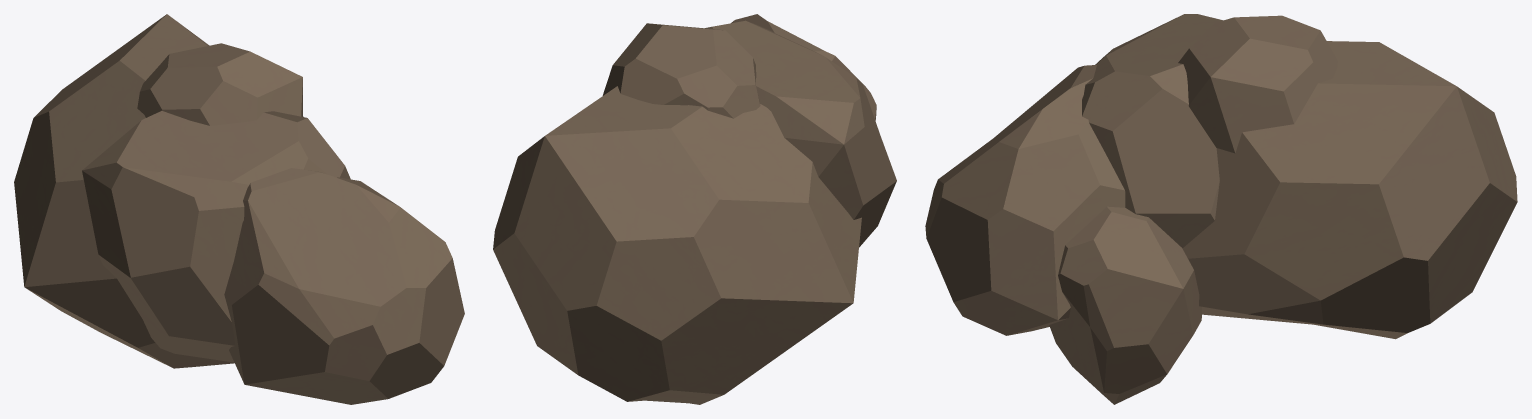
File: Rock1.fbx
3 renders of one model, left to right at view 1: azimuth 30°, elevation 25°; view 2: azimuth 150°, elevation 25°; view 3: azimuth 270°, elevation 25°, orthographic. The views are drawn at different scales.
Visible parts, largest first — view 1: Icosphere.003; view 2: Icosphere.003; view 3: Icosphere.003.
Boxes of the visible parts, x1=… form: Icosphere.003: x1=14, y1=14, x2=464, y2=404; Icosphere.003: x1=493, y1=14, x2=896, y2=404; Icosphere.003: x1=925, y1=14, x2=1517, y2=404.
Size of the model in its own units: 411 by 366 by 605.
1 material, 1 textured.
